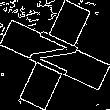N_SE: (24, 26, 86, 84)
